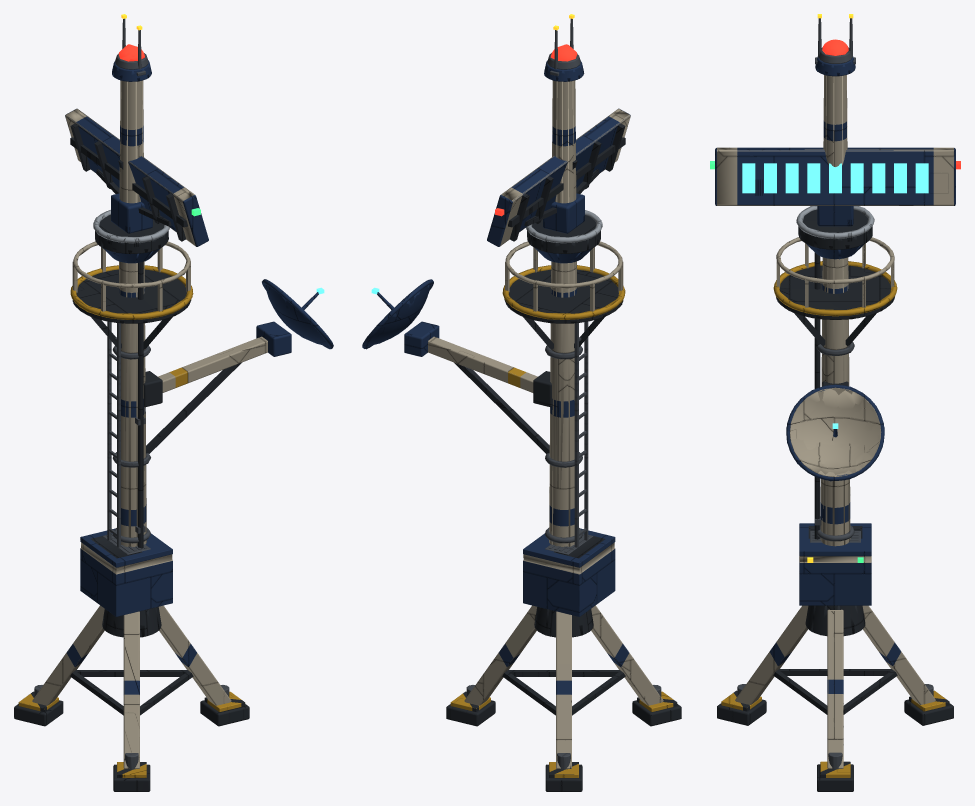
Rendered from place_sensor_mast.glb.
3 views of the same model, side by side, from view 1: azimuth 30°, elevation 25°; view 2: azimuth 150°, elevation 25°; view 3: azimuth 270°, elevation 25° (orthographic).
Visible parts, largest first — view 1: LOD0_Hull_graphite, LOD0_Hull, LOD0_Armor, LOD0_Mechanical, LOD2_Hull, LOD1_Hull_graphite, LOD0_Warning, LOD1_Hull, LOD1_Armor, LOD2_Warning, LOD2_Hull_graphite, LOD2_Armor; view 2: LOD0_Hull, LOD0_Armor, LOD0_Hull_graphite, LOD0_Mechanical, LOD2_Hull, LOD1_Hull_graphite, LOD0_Warning, LOD1_Hull, LOD1_Armor, LOD2_Warning, LOD2_Armor; view 3: LOD0_Armor, LOD0_Hull, LOD0_Hull_graphite, LOD2_Hull, LOD0_Lights_Cyan, LOD1_Hull, LOD1_Lights_Cyan, LOD0_Warning, LOD0_Mechanical, LOD1_Hull_graphite, LOD2_Warning, LOD1_Armor (+4 smaller).
Boxes of the visible parts, bbox=[...] form: LOD0_Hull_graphite: bbox=[14, 123, 249, 791]; LOD0_Hull: bbox=[32, 80, 267, 768]; LOD0_Armor: bbox=[65, 61, 333, 694]; LOD0_Mechanical: bbox=[34, 18, 229, 769]; LOD2_Hull: bbox=[32, 80, 197, 768]; LOD1_Hull_graphite: bbox=[14, 125, 249, 791]; LOD0_Warning: bbox=[18, 265, 241, 777]; LOD1_Hull: bbox=[33, 109, 231, 768]; LOD1_Armor: bbox=[65, 61, 332, 586]; LOD2_Warning: bbox=[71, 265, 192, 319]; LOD2_Hull_graphite: bbox=[14, 231, 218, 779]; LOD2_Armor: bbox=[80, 60, 333, 580]; LOD0_Hull: bbox=[428, 80, 663, 768]; LOD0_Armor: bbox=[362, 61, 630, 694]; LOD0_Hull_graphite: bbox=[446, 124, 681, 791]; LOD0_Mechanical: bbox=[466, 18, 661, 769]; LOD2_Hull: bbox=[465, 80, 630, 768]; LOD1_Hull_graphite: bbox=[446, 124, 681, 791]; LOD0_Warning: bbox=[450, 265, 673, 777]; LOD1_Hull: bbox=[464, 109, 663, 768]; LOD1_Armor: bbox=[362, 62, 628, 579]; LOD2_Warning: bbox=[503, 265, 624, 319]; LOD2_Armor: bbox=[362, 62, 618, 352]; LOD0_Armor: bbox=[715, 57, 955, 693]; LOD0_Hull: bbox=[717, 75, 953, 768]; LOD0_Hull_graphite: bbox=[717, 209, 953, 791]; LOD2_Hull: bbox=[717, 75, 953, 657]; LOD0_Lights_Cyan: bbox=[742, 163, 928, 428]; LOD1_Hull: bbox=[717, 149, 953, 768]; LOD1_Lights_Cyan: bbox=[742, 163, 928, 428]; LOD0_Warning: bbox=[721, 261, 945, 777]; LOD0_Mechanical: bbox=[737, 18, 933, 769]; LOD1_Hull_graphite: bbox=[717, 241, 953, 791]; LOD2_Warning: bbox=[774, 261, 897, 315]; LOD1_Armor: bbox=[715, 58, 955, 588].
Size of what is drawn, in the model's own units: 5.03 by 13.27 by 4.17.
Materials: 11 (7 with a texture image).
